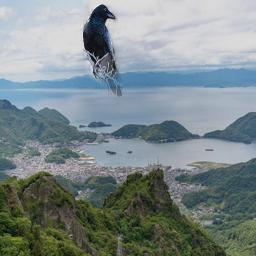Crow: (83, 4, 123, 97)
